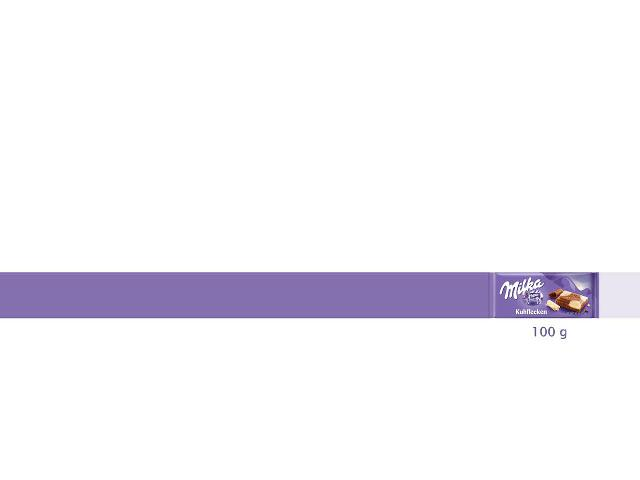chocolate: (489, 270, 600, 325)
